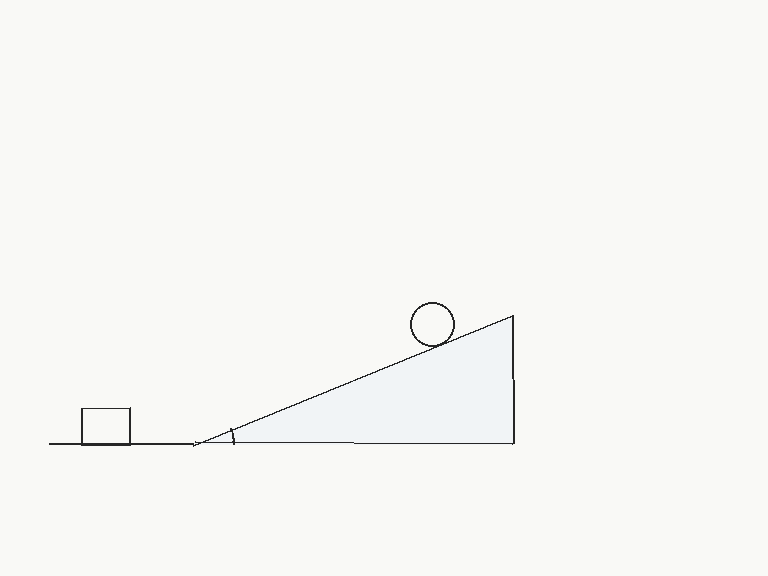ball: (408, 300, 456, 348)
block: (79, 406, 131, 446)
ramp: (192, 313, 515, 446)
